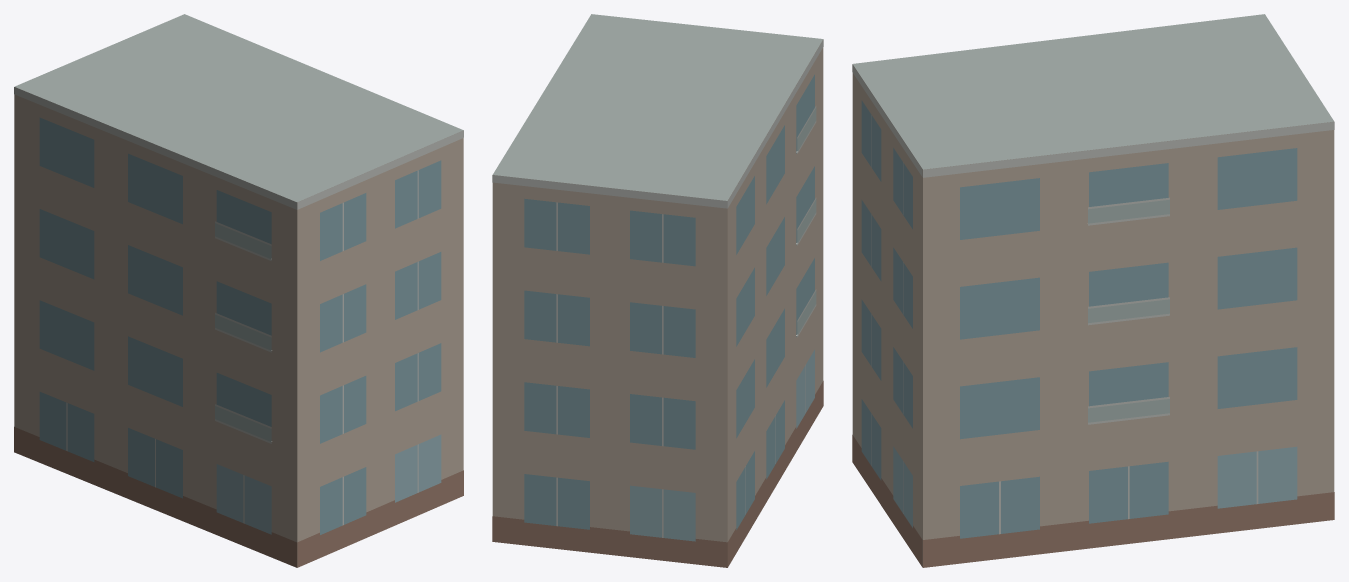
The model's file is survey-upis-32462523.glb.
The picture shows the model from 3 angles, left to right: view 1: azimuth 30°, elevation 25°; view 2: azimuth 150°, elevation 25°; view 3: azimuth 270°, elevation 25°; orthographic projection. The views are drawn at different scales.
Visible parts, largest first — view 1: survey-upis-32462523.tmp; view 2: survey-upis-32462523.tmp; view 3: survey-upis-32462523.tmp.
Boxes of the visible parts, x1,y1,x2,y2 form: survey-upis-32462523.tmp: (14,14,463,567); survey-upis-32462523.tmp: (492,14,823,567); survey-upis-32462523.tmp: (852,14,1334,567).
Bounding box in the file's own units: 9.85 × 11.75 × 12.9.
